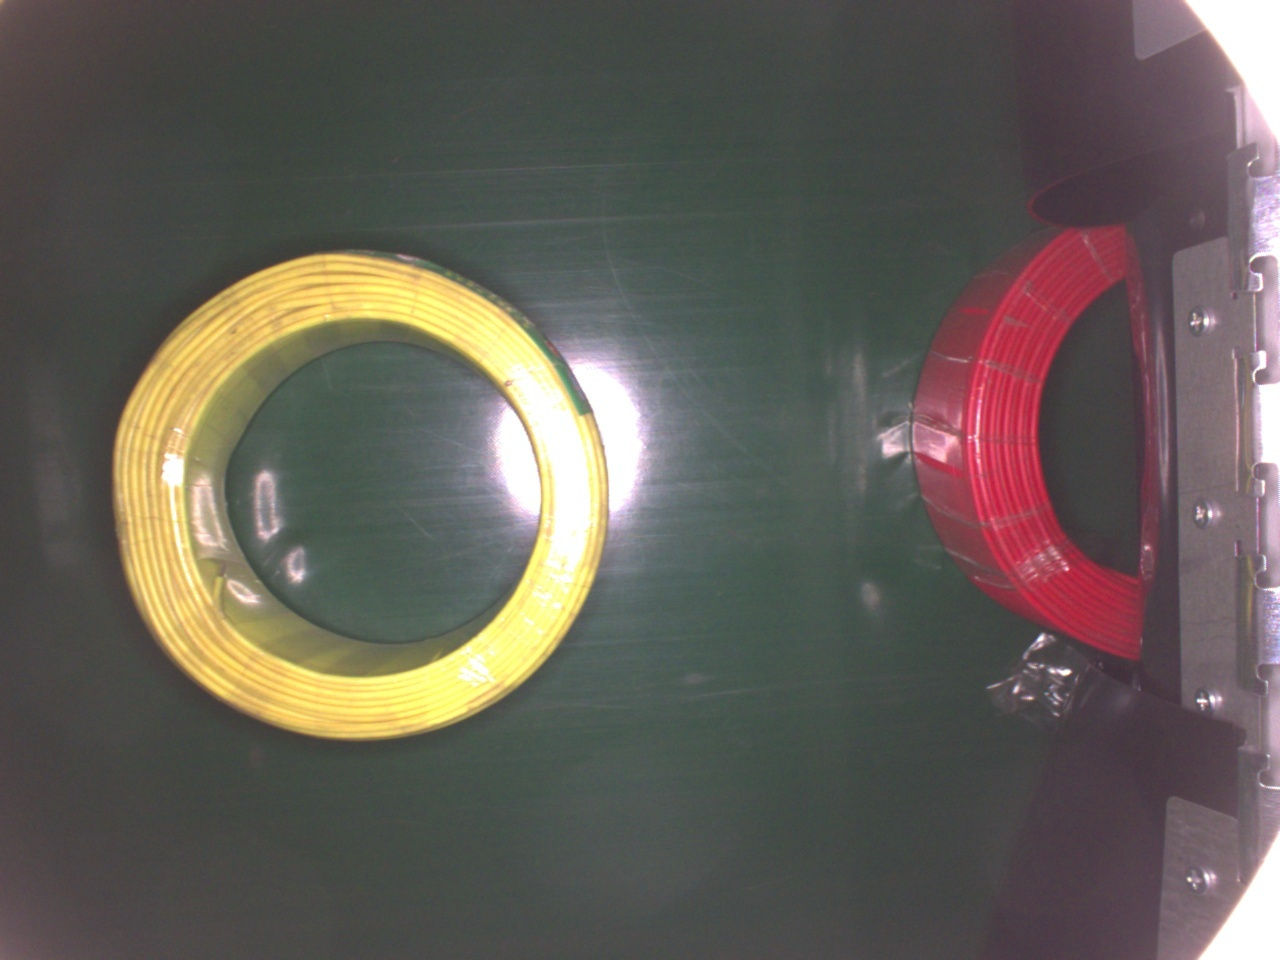red: (905, 214, 1146, 659)
yellow: (111, 245, 614, 742)
